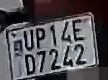1: (46, 24, 59, 49)
2: (72, 42, 89, 67), (47, 46, 62, 72)
4: (57, 20, 74, 44), (62, 44, 74, 68)
7: (36, 49, 47, 73)
D: (23, 52, 37, 75)
E: (69, 18, 87, 42)
P: (34, 27, 48, 50)
U: (18, 27, 36, 53)
